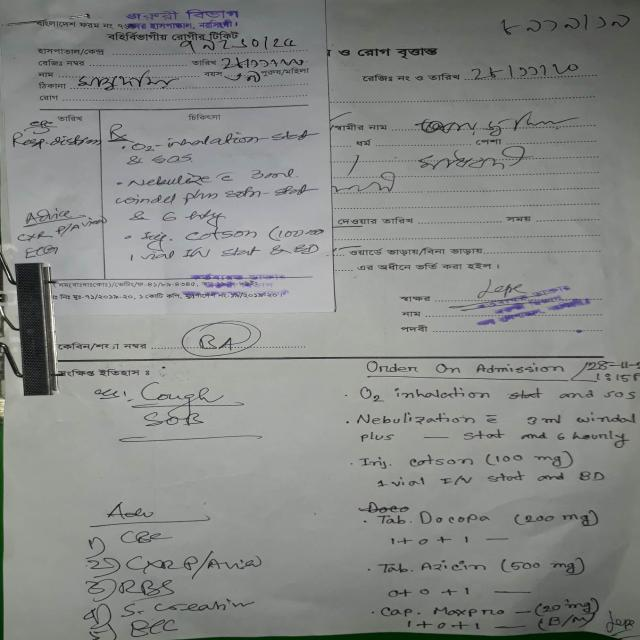Azicin: (416, 558, 492, 576)
Cotson: (399, 452, 477, 471)
Docopa: (417, 509, 494, 528)
Maxpro: (428, 602, 509, 620)
